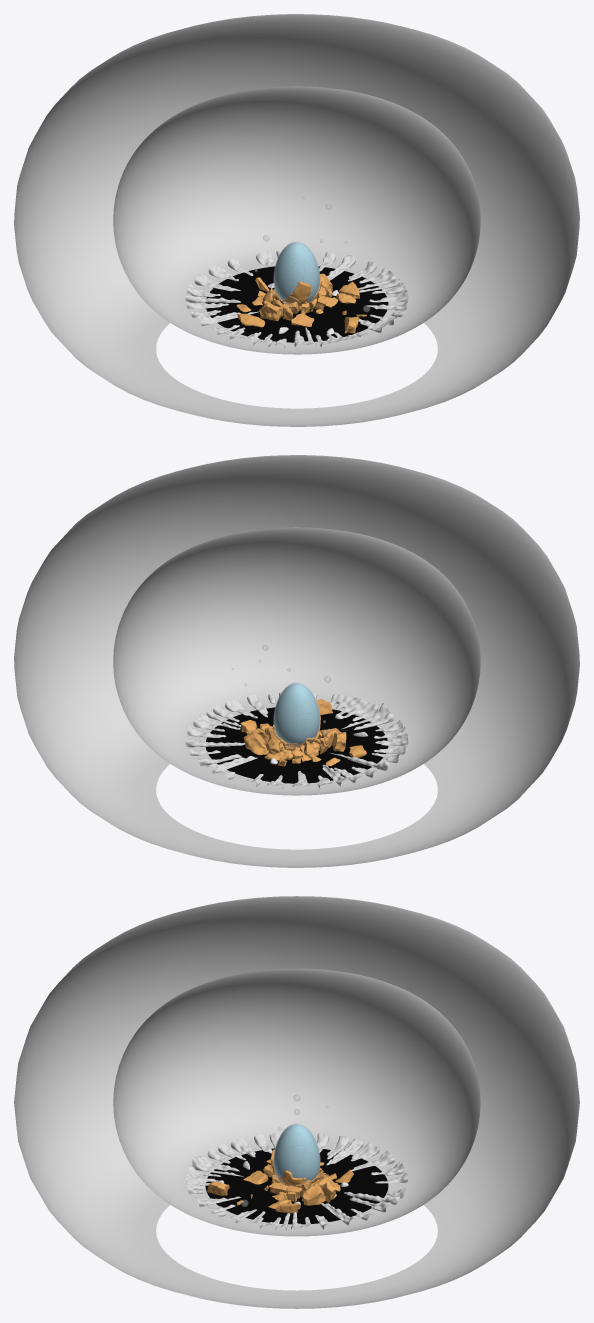
Rendered from PXLs_egg279.glb.
3 views of the same model, one above another, from view 1: azimuth 30°, elevation 25°; view 2: azimuth 150°, elevation 25°; view 3: azimuth 270°, elevation 25° (orthographic).
Parts seen in each view (by area): view 1: outerCylinder, innerCylinder, floorBase, pinkGooRim, rockDebris, smoke4, smoke3, crackedEgg; view 2: outerCylinder, innerCylinder, pinkGooRim, floorBase, rockDebris, smoke4, smoke3, crackedEgg; view 3: outerCylinder, innerCylinder, pinkGooRim, floorBase, rockDebris, smoke4, smoke3, crackedEgg.
Boxes of the visible parts, bbox=[...] form: outerCylinder: bbox=[14, 14, 579, 426]; innerCylinder: bbox=[113, 86, 480, 354]; floorBase: bbox=[206, 266, 388, 342]; pinkGooRim: bbox=[185, 250, 408, 348]; rockDebris: bbox=[237, 273, 359, 333]; smoke4: bbox=[273, 241, 320, 305]; smoke3: bbox=[274, 241, 319, 302]; crackedEgg: bbox=[274, 242, 319, 302]; outerCylinder: bbox=[14, 455, 579, 867]; innerCylinder: bbox=[113, 527, 480, 795]; pinkGooRim: bbox=[185, 691, 408, 789]; floorBase: bbox=[205, 707, 388, 783]; rockDebris: bbox=[240, 699, 366, 766]; smoke4: bbox=[273, 682, 320, 747]; smoke3: bbox=[274, 682, 319, 746]; crackedEgg: bbox=[274, 683, 319, 744]; outerCylinder: bbox=[14, 896, 579, 1308]; innerCylinder: bbox=[113, 968, 480, 1236]; pinkGooRim: bbox=[185, 1132, 408, 1230]; floorBase: bbox=[205, 1148, 388, 1224]; rockDebris: bbox=[207, 1156, 353, 1213]; smoke4: bbox=[273, 1123, 320, 1185]; smoke3: bbox=[274, 1123, 320, 1179]; crackedEgg: bbox=[274, 1124, 319, 1180].
Size of the model in its own units: 22.69 by 11.36 by 22.69.
Materials: 8 (2 with a texture image).
